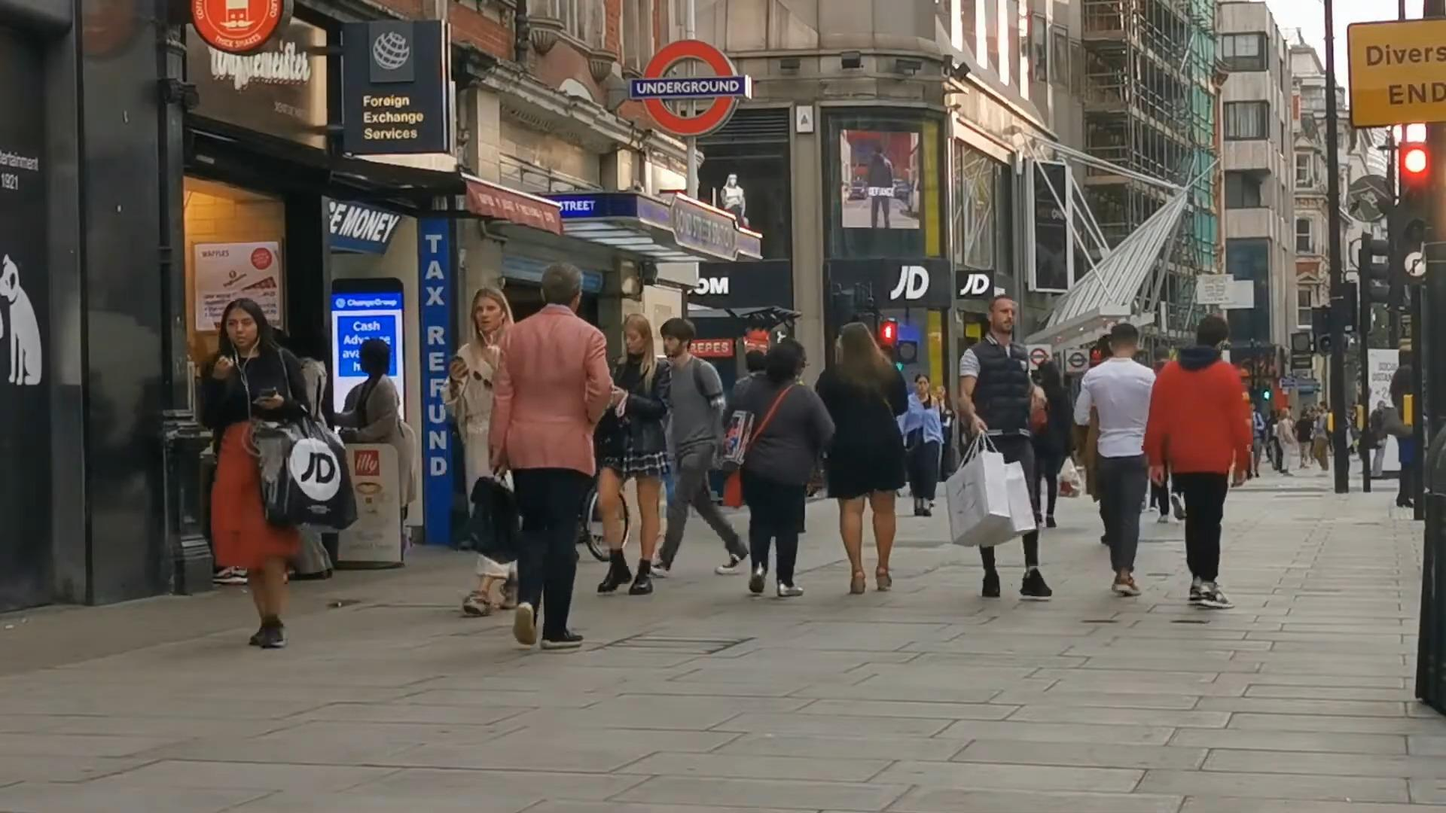no-helmet: (219, 297, 272, 349), (836, 322, 892, 370), (541, 261, 584, 314), (766, 337, 806, 390), (471, 286, 514, 334), (660, 317, 696, 361), (623, 313, 655, 354), (1197, 314, 1229, 354), (988, 294, 1016, 334), (1109, 323, 1138, 358), (746, 350, 766, 374), (915, 373, 929, 395)
